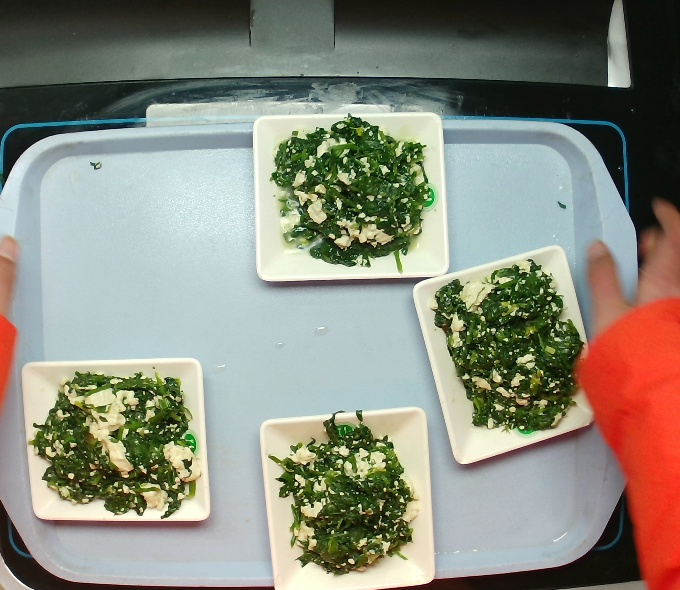wcq-QinCaiYeDouFu: (424, 255, 592, 443), (258, 107, 442, 276), (28, 365, 207, 521), (271, 420, 416, 564)
